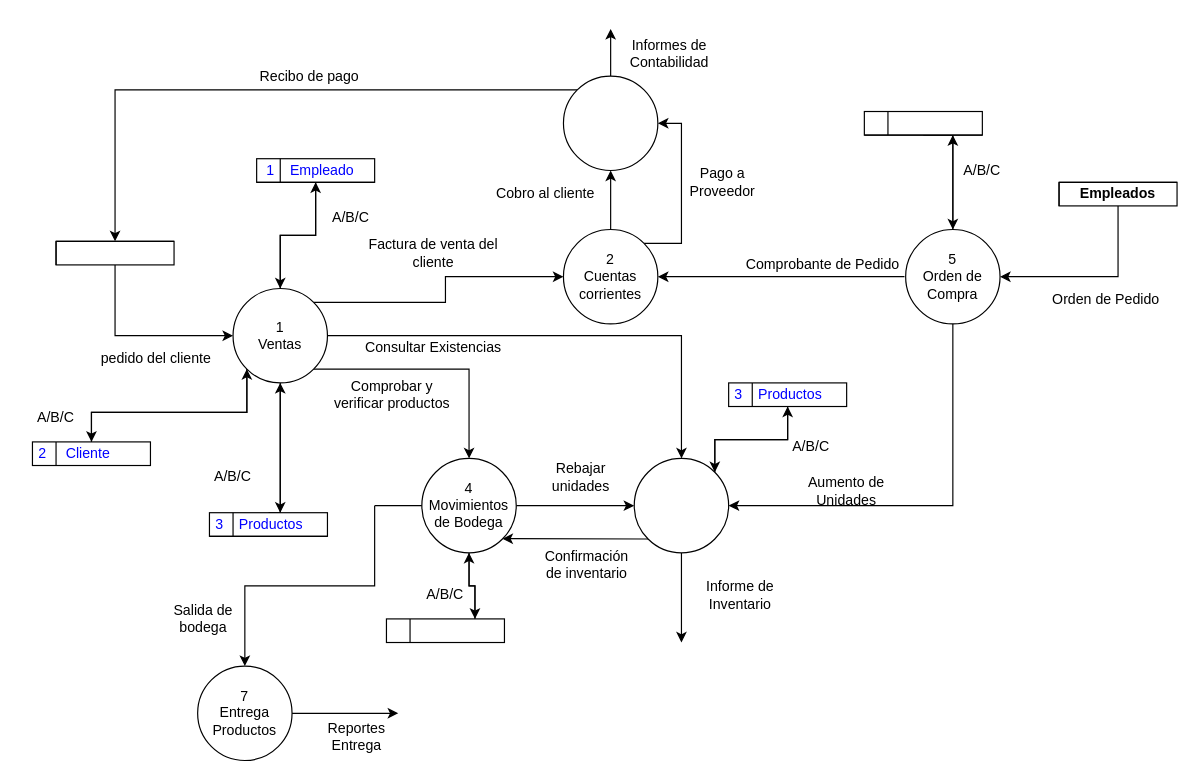
Some shapes in this 1198 by 781 pixel diagram are drawn without their labels. Here are the shapes that lost their labels. From the top down, the centre of each, then its label:
At pixel 610 123: "3 Contabilidad".
At pixel 922 122: "2 Proveedores".
At pixel 114 252: "Clientes".
At pixel 681 505: "6 Inventario".
At pixel 444 630: "4 Bodega".
